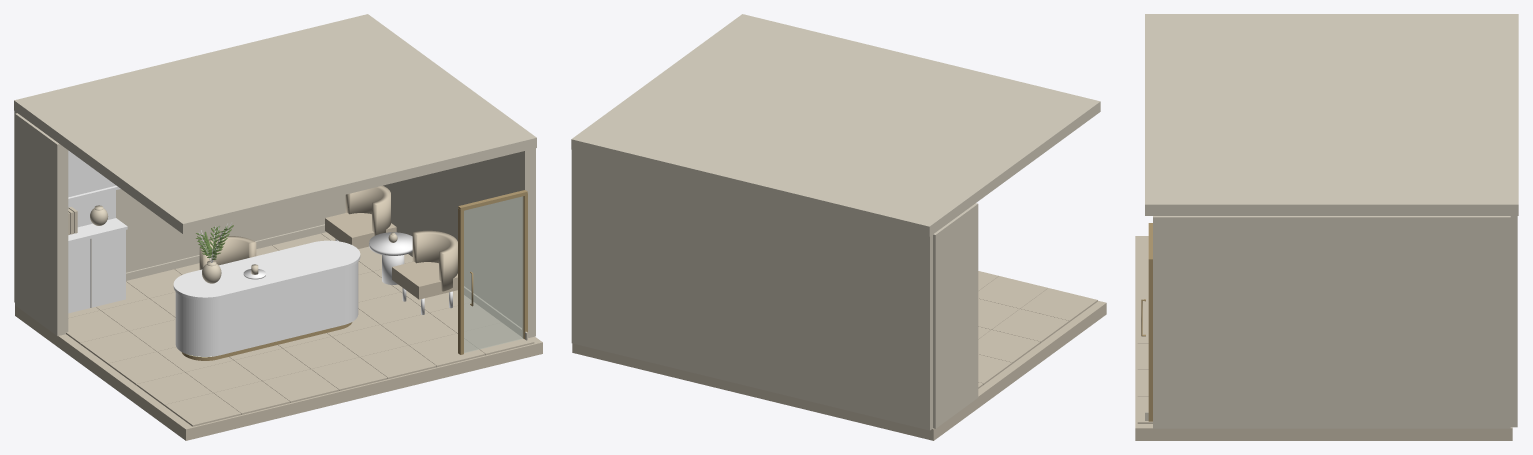
File: spina-clinic-recepcao-original.glb
3 views of the same model, side by side, from view 1: azimuth 30°, elevation 25°; view 2: azimuth 150°, elevation 25°; view 3: azimuth 270°, elevation 25° (orthographic). The views are drawn at different scales.
Visible parts, largest first — view 1: Teto - ativar para ambiente fechado, Parede direita, Balcao | corpo travertino, Parede esquerda parcial, Porta | vidro, Laje piso, Parede da marca, Balcao | tampo, Marcenaria | inferior, Poltrona espera 02 encosto curvo, Poltrona espera 02 assento, Placa de piso (+35 smaller); view 2: Parede da marca, Teto - ativar para ambiente fechado, Parede esquerda parcial, Laje piso, Placa de piso, Placa de piso.001, Placa de piso.006, Placa de piso.002, Placa de piso.007, Placa de piso.003; view 3: Parede direita, Teto - ativar para ambiente fechado, Laje piso, Parede da marca, Porta | montante.001.
Part boxes in pixels (x1,y1,x2,y2): Teto - ativar para ambiente fechado: (14, 14, 536, 234); Parede direita: (383, 148, 535, 337); Balcao | corpo travertino: (175, 262, 358, 356); Parede esquerda parcial: (15, 113, 68, 335); Porta | vidro: (464, 196, 523, 353); Laje piso: (15, 305, 542, 440); Parede da marca: (14, 111, 345, 302); Balcao | tampo: (173, 240, 360, 300); Marcenaria | inferior: (68, 230, 125, 313); Poltrona espera 02 encosto curvo: (412, 230, 457, 291); Poltrona espera 02 assento: (392, 261, 457, 299); Placa de piso: (164, 393, 241, 426); Parede da marca: (571, 150, 932, 430); Teto - ativar para ambiente fechado: (571, 14, 1100, 236); Parede esquerda parcial: (933, 203, 978, 428); Laje piso: (572, 300, 1106, 440); Placa de piso: (1020, 288, 1097, 321); Placa de piso.001: (992, 309, 1069, 342); Placa de piso.006: (978, 276, 1047, 308); Placa de piso.002: (978, 330, 1040, 363); Placa de piso.007: (978, 298, 1019, 329); Placa de piso.003: (978, 354, 1012, 384); Parede direita: (1153, 216, 1510, 428); Teto - ativar para ambiente fechado: (1145, 14, 1518, 215); Laje piso: (1135, 236, 1512, 440); Parede da marca: (1510, 216, 1517, 427); Porta | montante.001: (1148, 261, 1152, 421).
Bounding box in the file's own units: 5.88 × 3.34 × 4.93.
